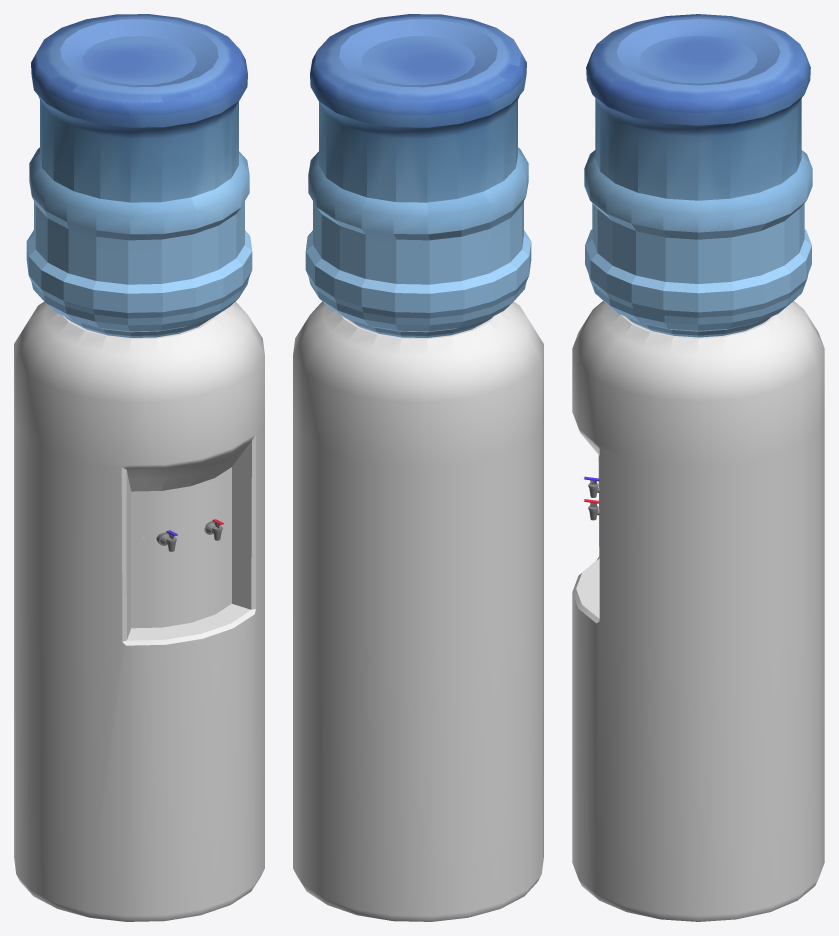
Rendered from Water_Fountain.fbx.
The picture shows the model from 3 angles, left to right: view 1: azimuth 30°, elevation 25°; view 2: azimuth 150°, elevation 25°; view 3: azimuth 270°, elevation 25°; orthographic projection.
Visible parts, largest first — view 1: Cooler; view 2: Cooler; view 3: Cooler.
Part boxes in pixels (x1,y1,x2,y2): Cooler: (14, 14, 264, 921); Cooler: (293, 14, 543, 921); Cooler: (572, 14, 824, 921).
Size of the model in its own units: 2 by 7.18 by 2.
Materials: 1 (1 with a texture image).
